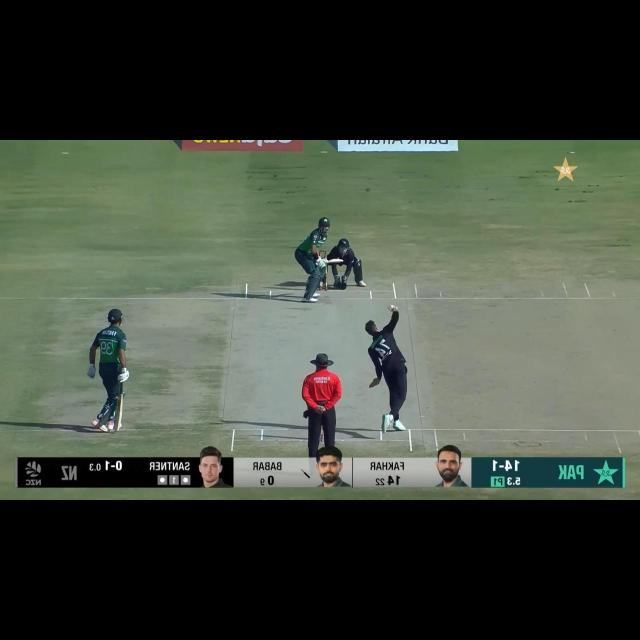bat: (112, 395, 125, 431), (325, 256, 345, 264)
toe: (112, 418, 122, 432), (337, 258, 344, 264)
